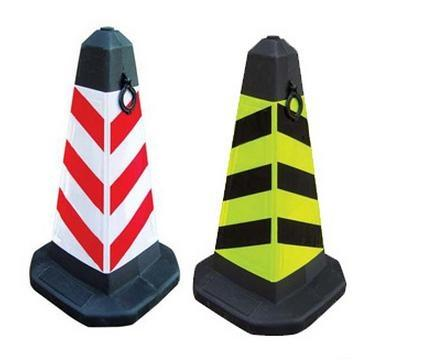cone_barrel: (190, 36, 351, 326), (30, 16, 178, 329)
